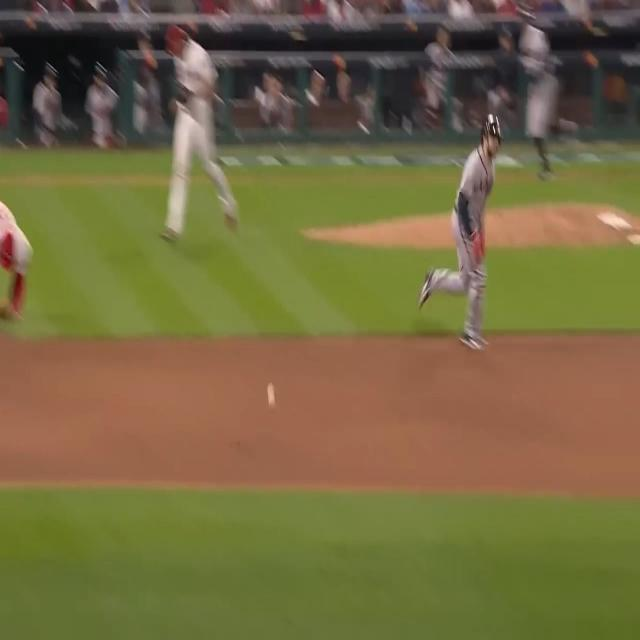baseball: (266, 380, 276, 408)
